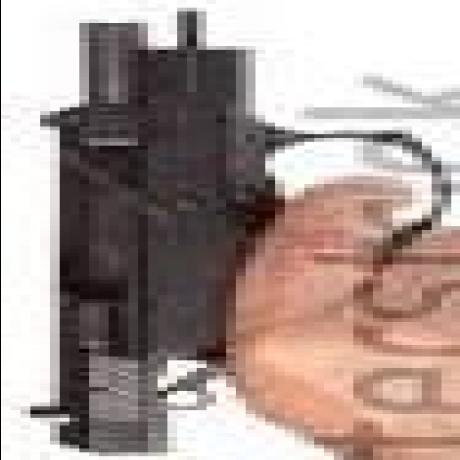weapon: (32, 17, 431, 457)
